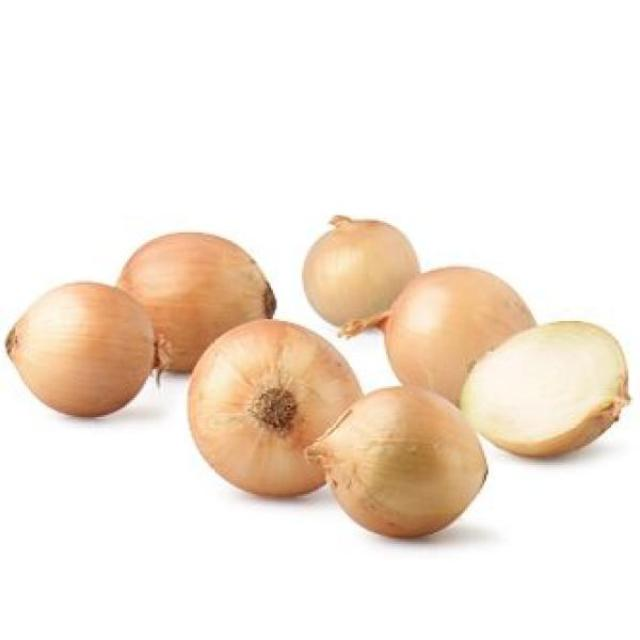Onion: (187, 319, 364, 500), (304, 384, 490, 542), (358, 267, 538, 407), (458, 321, 630, 460), (116, 231, 277, 377), (4, 282, 161, 421), (302, 217, 422, 334)
